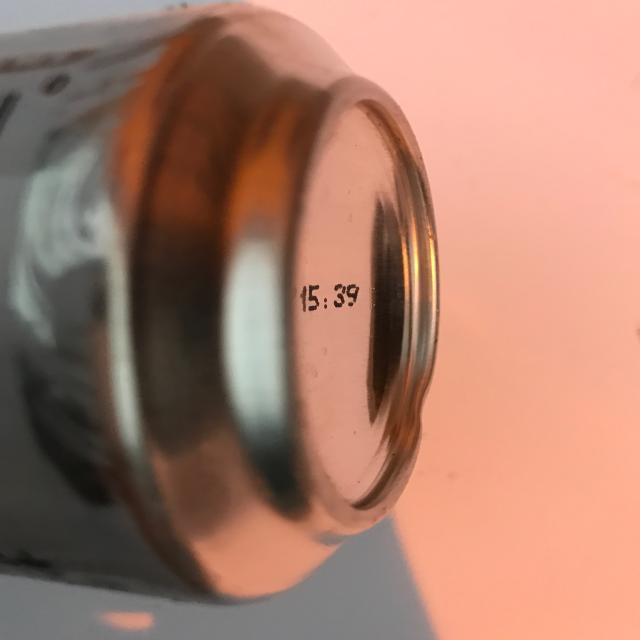metal: (0, 0, 441, 603)
